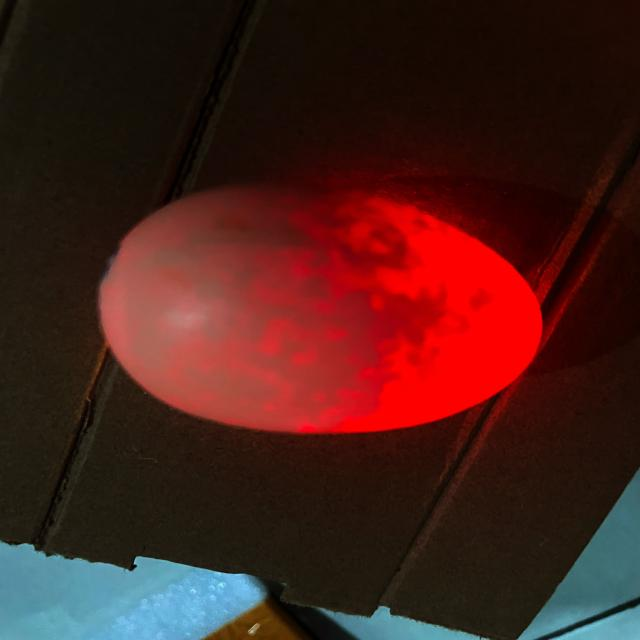fertile: (100, 186, 542, 432)
